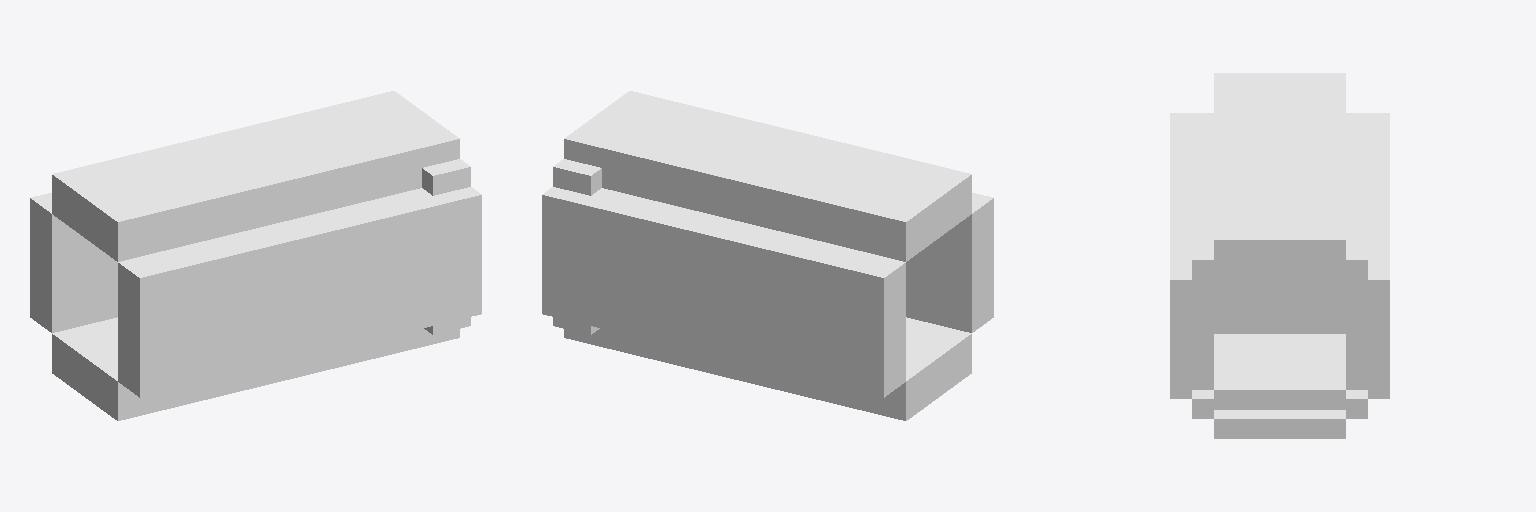
Rendered from pushka.obj.
3 renders of one model, left to right at view 1: azimuth 30°, elevation 25°; view 2: azimuth 150°, elevation 25°; view 3: azimuth 270°, elevation 25°, orthographic.
Visible parts, largest first — view 1: object 1; view 2: object 1; view 3: object 1.
Boxes of the visible parts, <box> form: object 1: <box>30,91,481,420</box>; object 1: <box>542,91,993,420</box>; object 1: <box>1170,73,1389,438</box>.
Size of the model in its own units: 1.8 by 1 by 1.